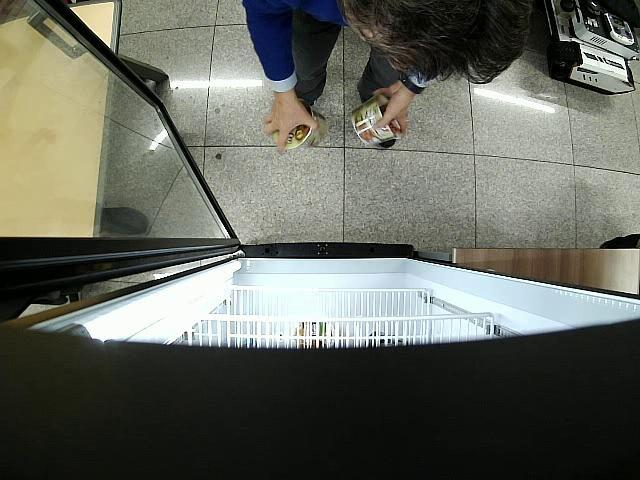03_chapagetti_L: (272, 100, 328, 148), (351, 93, 402, 145)
